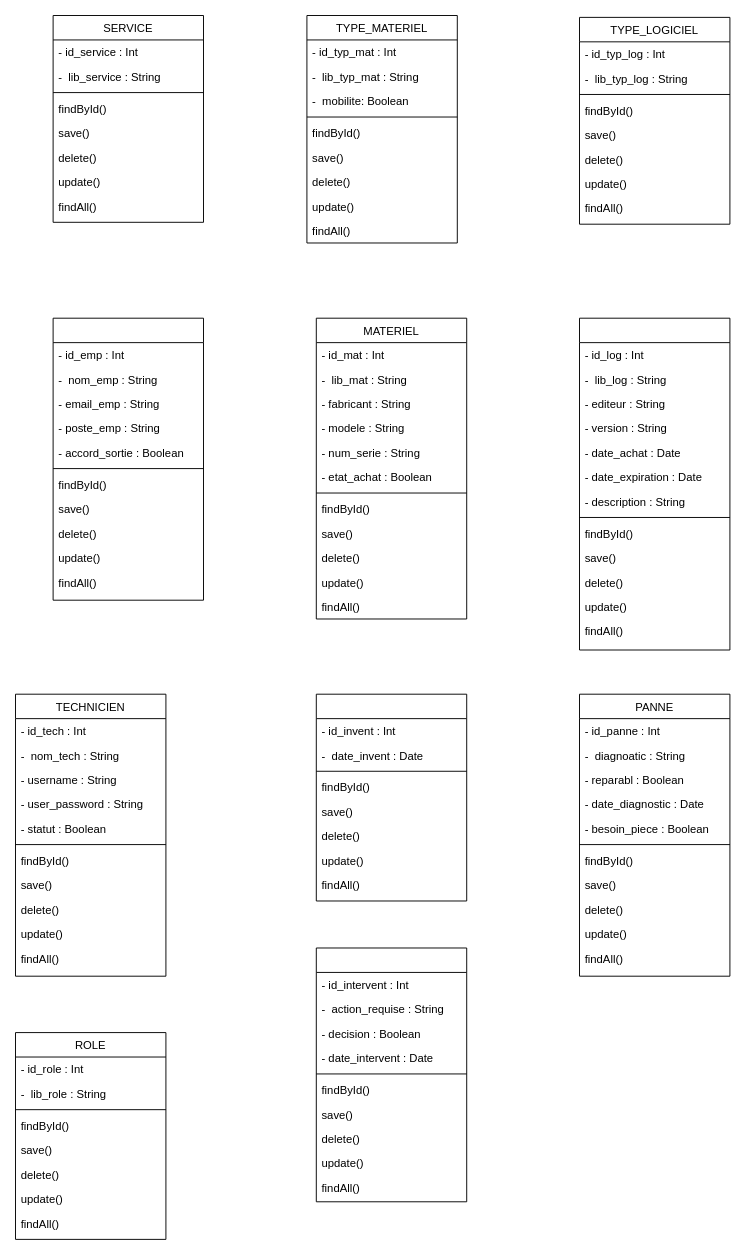
Image size: 745x1255. Some labels were removed from this diagram. Each missing label, with the box of its shape:
EMPLOYE: (52, 317, 204, 600)
INTERVENTION: (315, 947, 467, 1202)
INVENTAIRE: (315, 693, 467, 901)
LOGICIEL: (579, 317, 730, 650)
